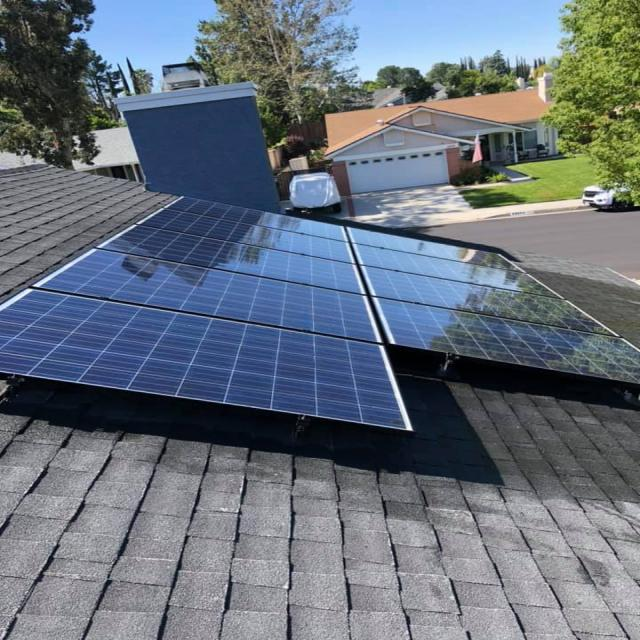clean-solar-panel: (2, 198, 635, 430)
